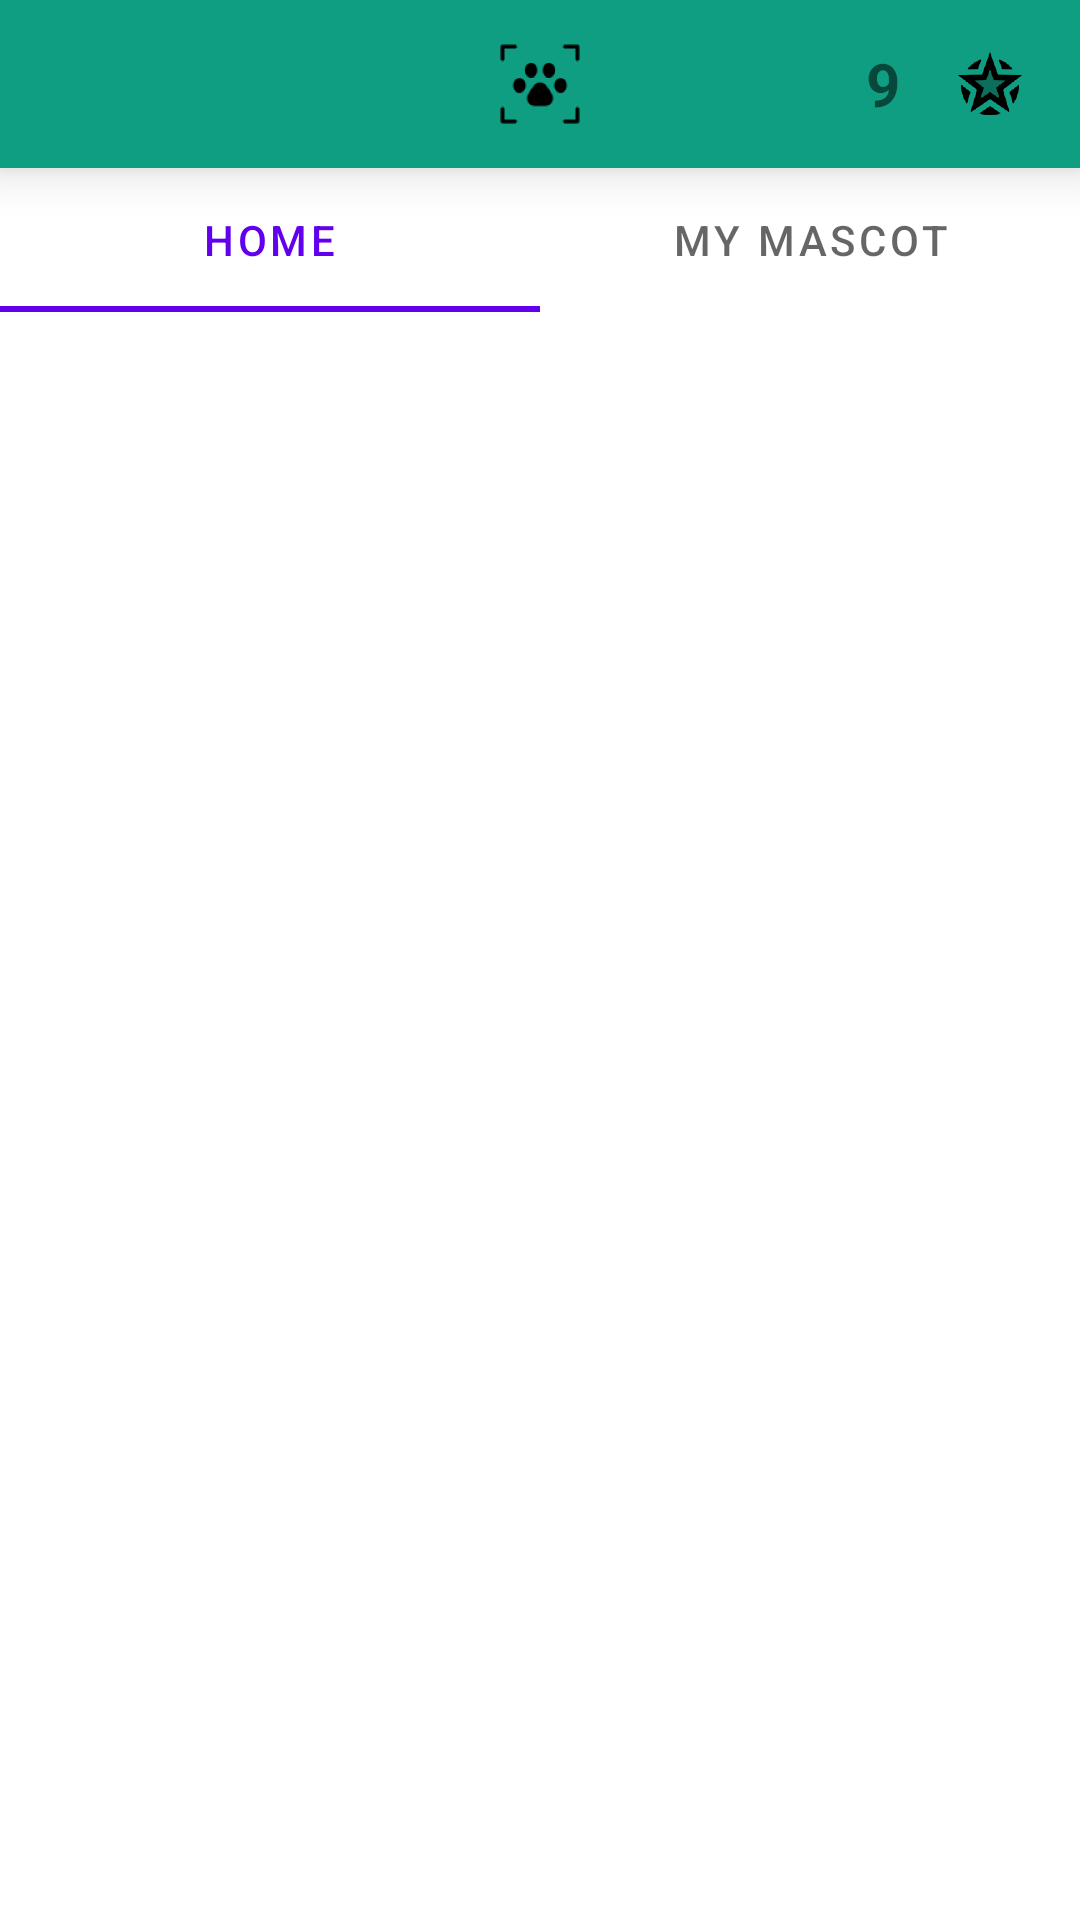

Icons on this 1080px x 1920px Android screen, each with its box as BBox(x1, y1, x2, y2):
star: BBox(958, 52, 1022, 115)
